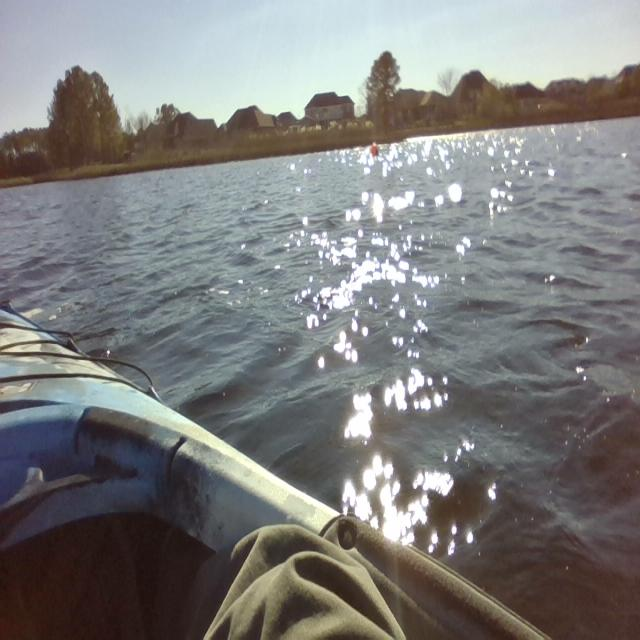Buoy: (366, 135, 380, 164)
